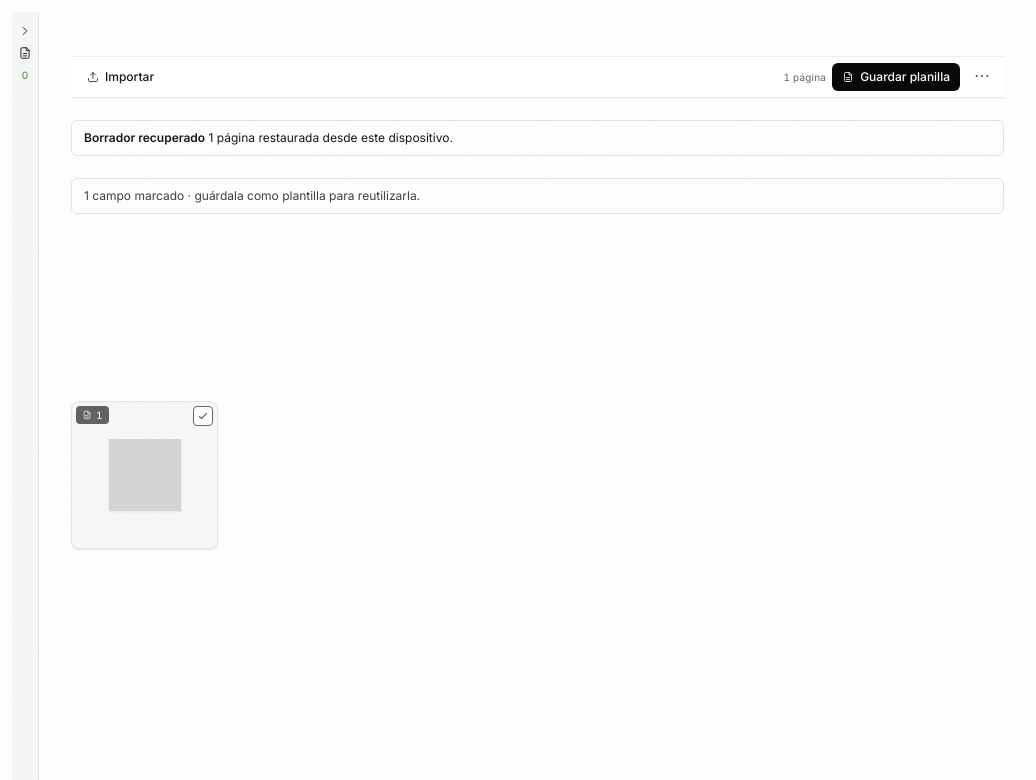
<PdfStudioView /> › Guardar planilla abre el nombre de guardado cuando hay casilleros
Step 1. Click the button "Guardar planilla" → (896, 77), box [832, 63, 960, 91]
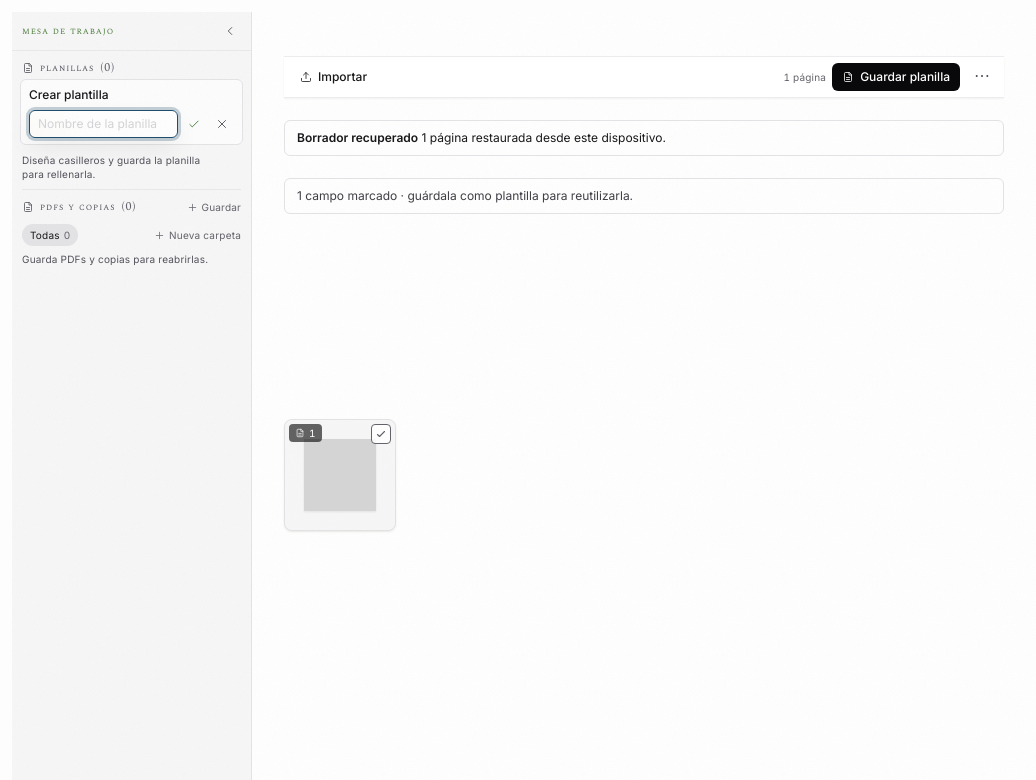
Check: the field with placeholder "Nombre de la planilla" is shown, box [29, 110, 178, 138]
